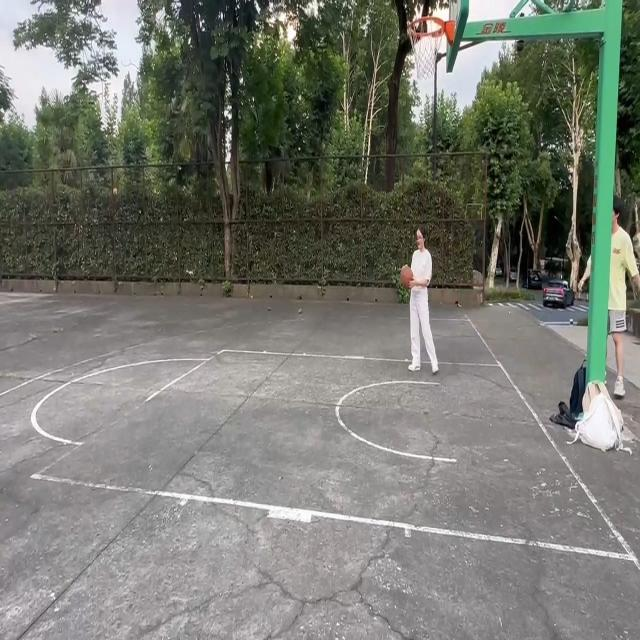basketball: (408, 14, 456, 82)
rim: (400, 268, 412, 287)
